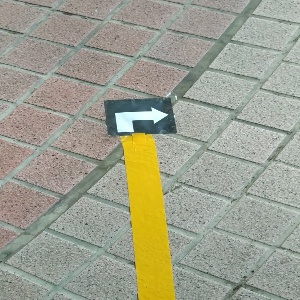right: (103, 98, 176, 135)
